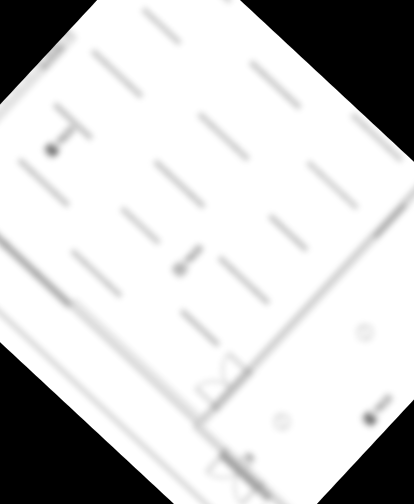double door: (189, 348, 254, 414), (202, 447, 266, 504)
window: (365, 195, 414, 246)
